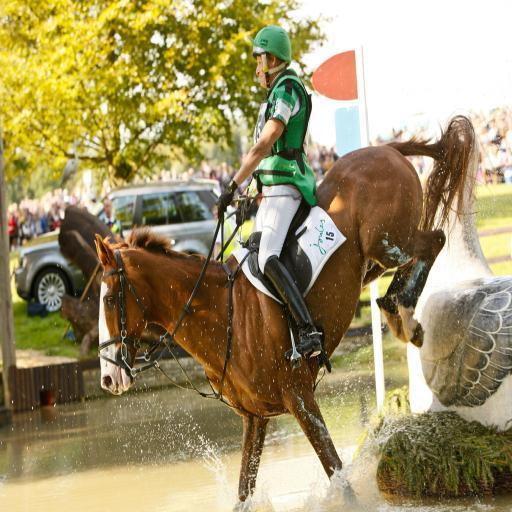horse: (98, 110, 500, 512)
